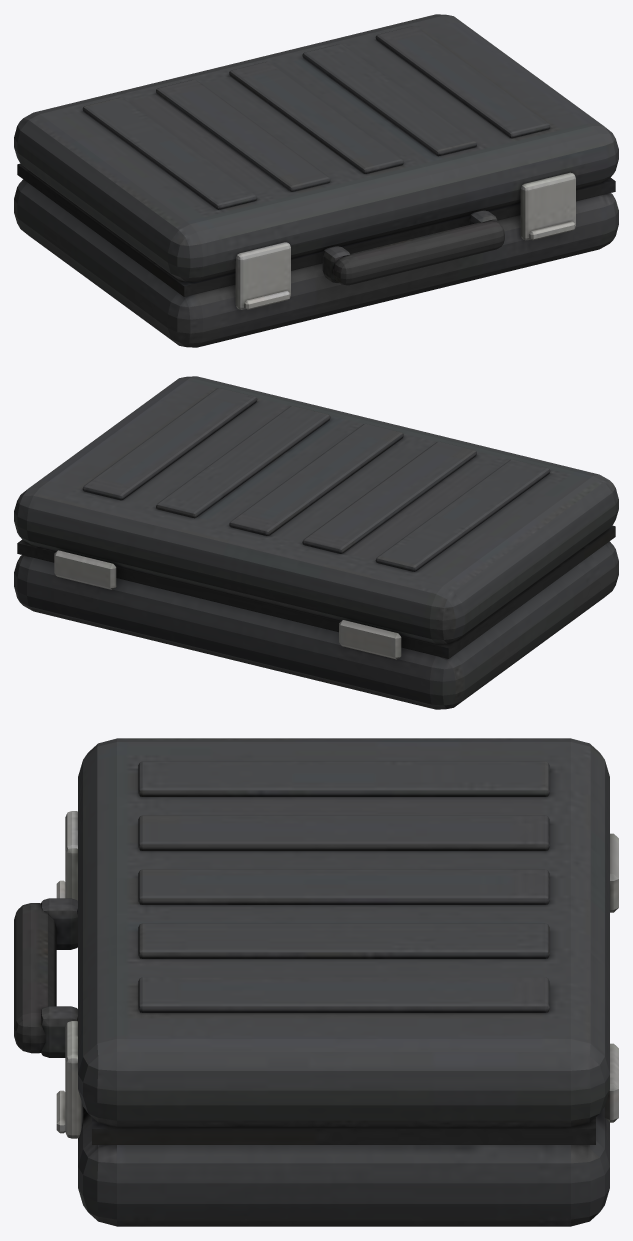
The model's file is case.glb.
3 renders of one model, top to bottom at view 1: azimuth 30°, elevation 25°; view 2: azimuth 150°, elevation 25°; view 3: azimuth 270°, elevation 25°, orthographic. The views are drawn at different scales.
Parts seen in each view (by area): view 1: case; view 2: case; view 3: case.
Boxes of the visible parts, x1,y1,x2,y2 form: case: [14, 14, 618, 347]; case: [14, 376, 618, 709]; case: [14, 738, 618, 1226].
Size of the model in its own units: 0.22 by 0.0597 by 0.1705.
Materials: 1 (1 with a texture image).
